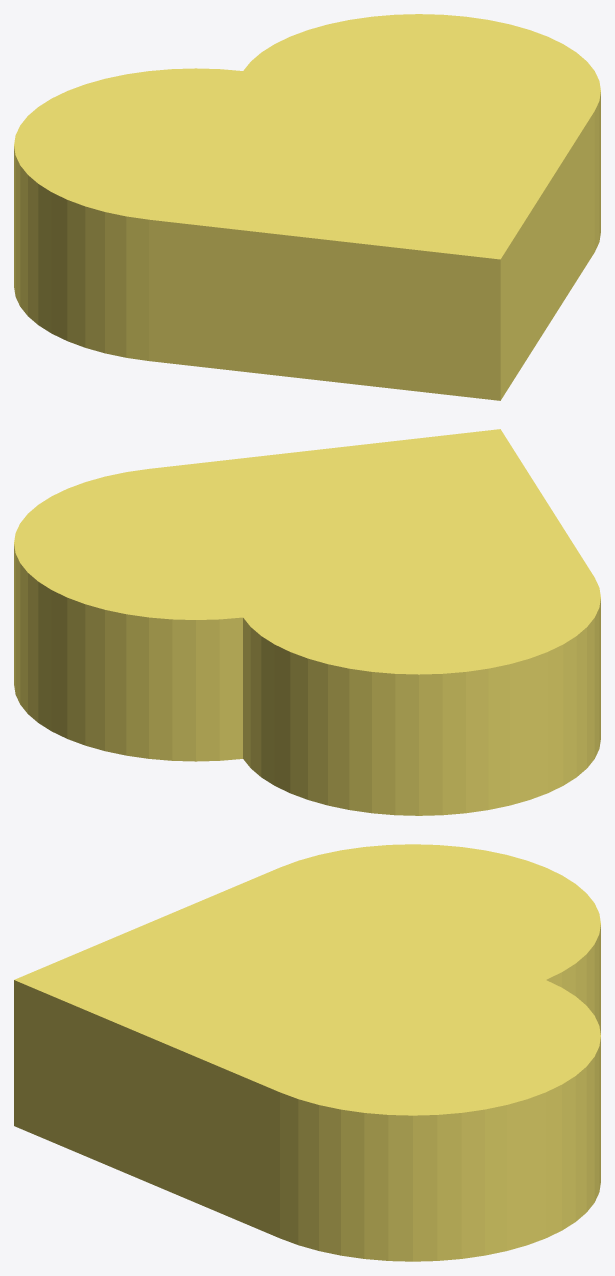
The model's file is heart.glb.
3 renders of one model, top to bottom at view 1: azimuth 30°, elevation 25°; view 2: azimuth 150°, elevation 25°; view 3: azimuth 270°, elevation 25°, orthographic. The views are drawn at different scales.
Size of the model in its own units: 23.9 by 6 by 21.85.
